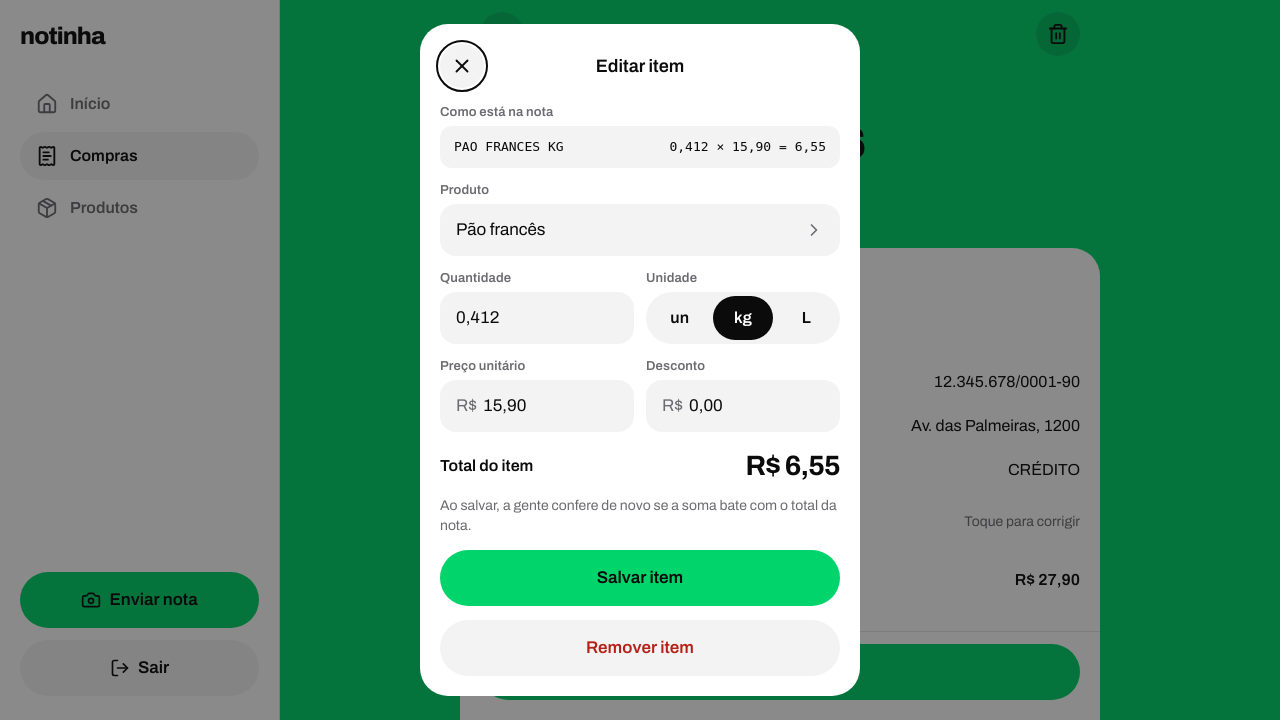
Scenario: correcting items › picking another product and fixing the numbers saves both and closes the sheet
Click the button named "Produto Pão francês".
click(501, 230)  # box [440,204,840,256]
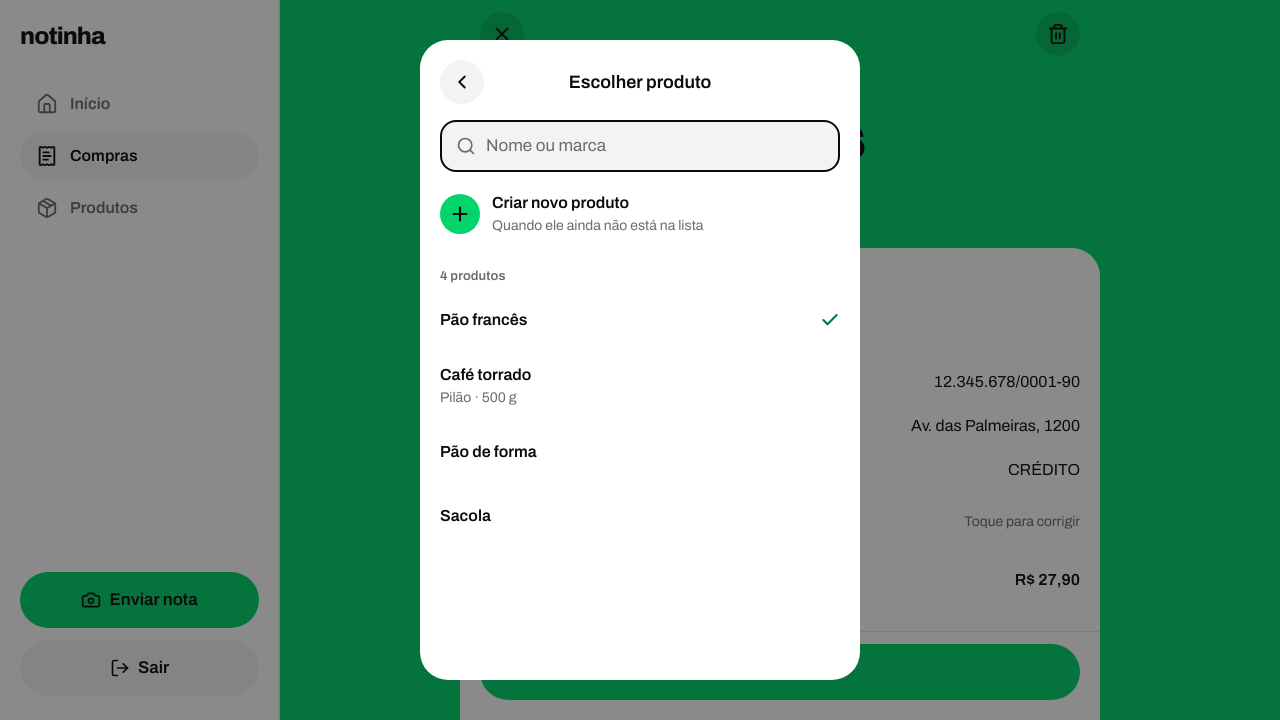
Type "pao" into the dropdown named "Buscar produto".
click(655, 146); type("pao")  # box [486,135,824,157]
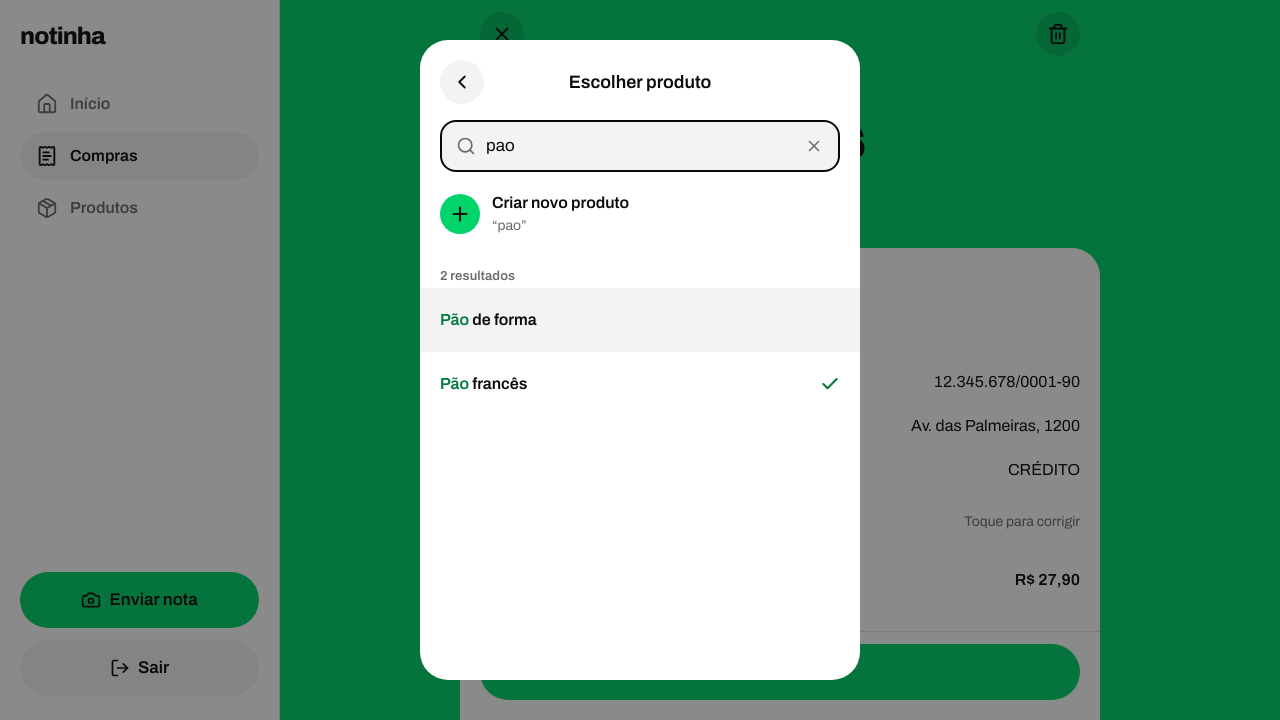
Expected: the option "Pão francês" is shown, [439,374,840,402]
Click the option "Pão de forma".
click(503, 320)  # box [420,288,860,352]
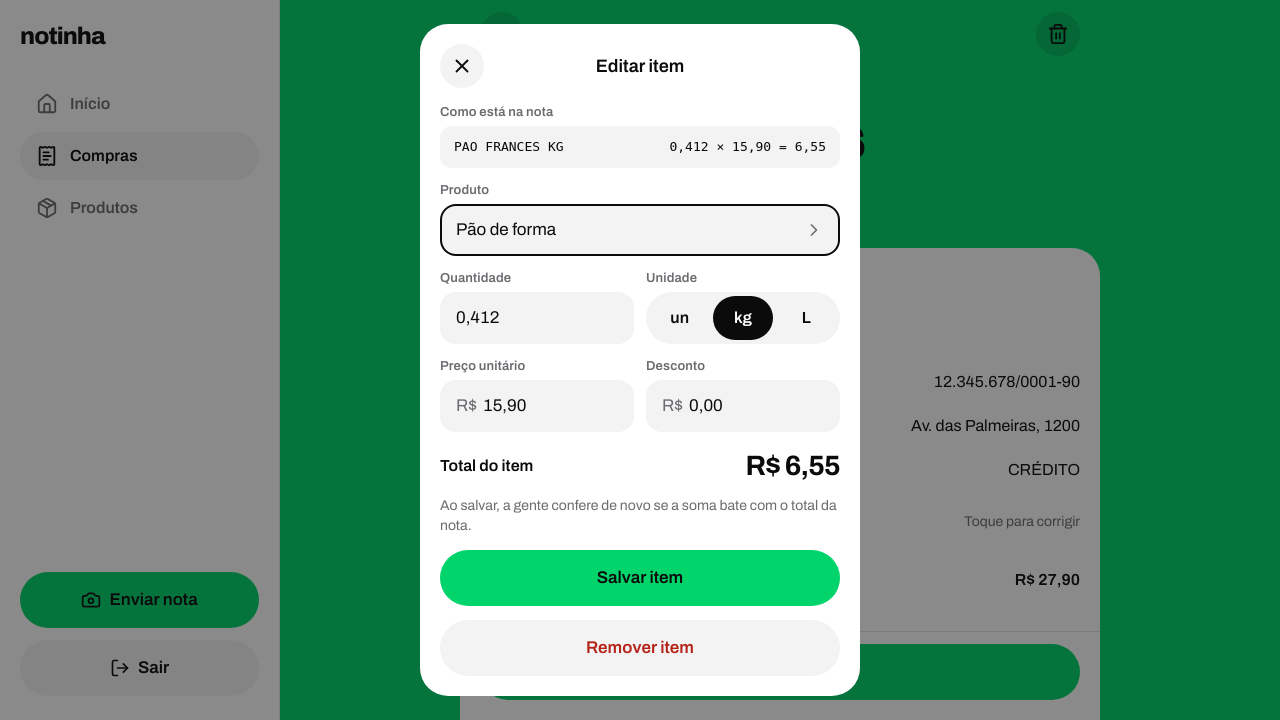
Click the radio button labelled "un".
click(680, 318)  # box [670,309,689,326]
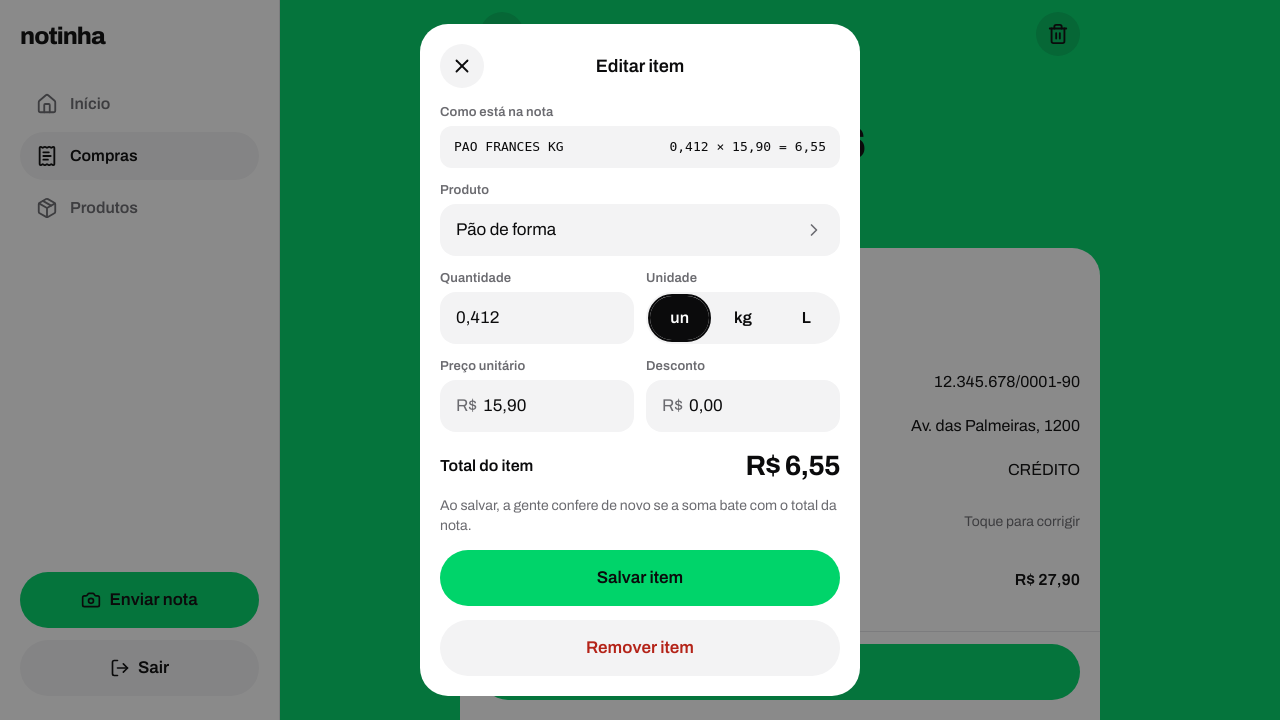
Click the button "Salvar item".
click(640, 578)  # box [440,550,840,606]
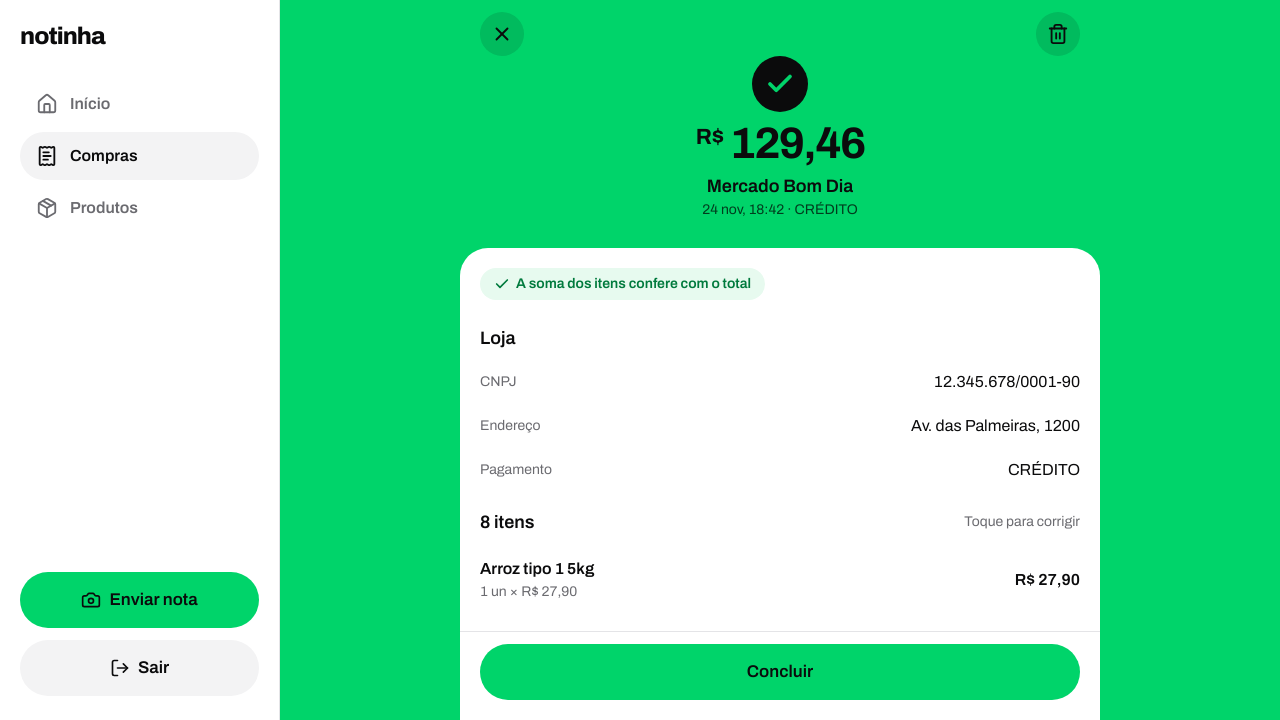
Now the dialog is gone
